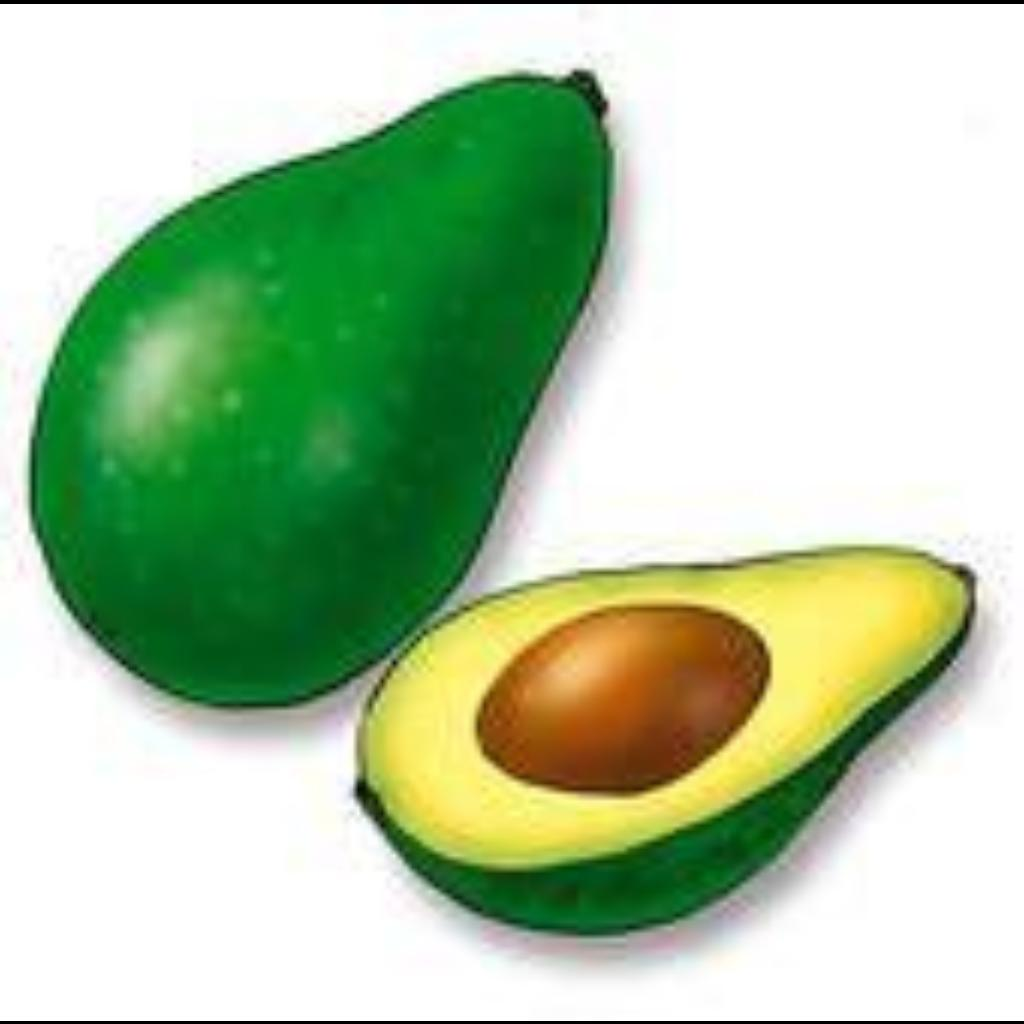Healthy: (21, 72, 623, 698)
